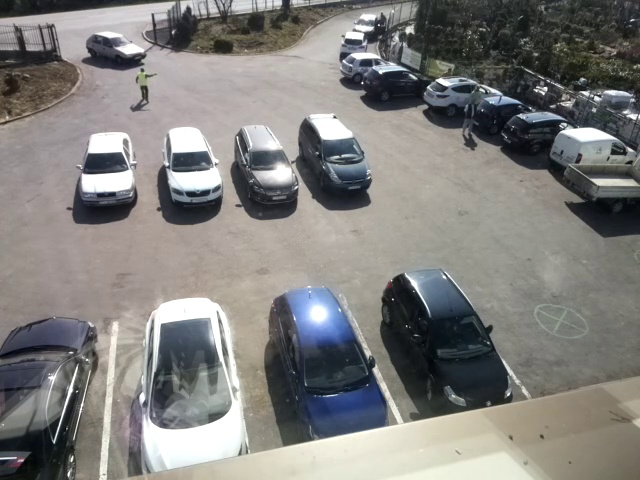car: (380, 269, 514, 413), (140, 296, 248, 474), (267, 286, 387, 444), (1, 316, 98, 480), (298, 113, 372, 193), (233, 125, 299, 209), (162, 126, 222, 209), (79, 130, 137, 209), (549, 124, 640, 174), (501, 111, 581, 156), (424, 76, 505, 115), (364, 64, 435, 102), (470, 93, 536, 133), (85, 31, 148, 64), (338, 52, 405, 81), (340, 31, 369, 60), (351, 11, 378, 36)
